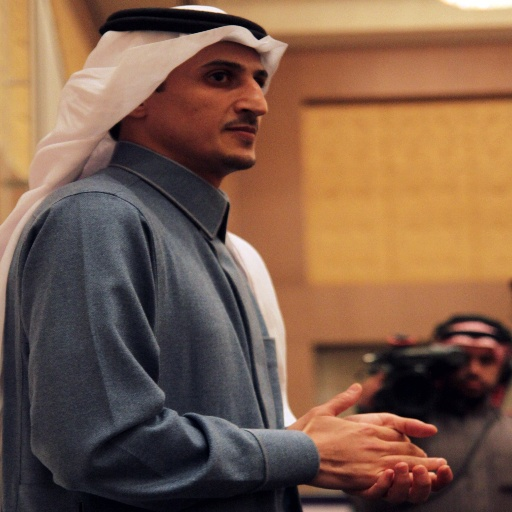hand: (338, 408, 455, 503)
